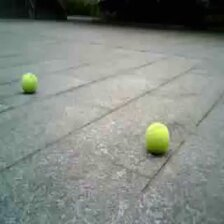tennis: (143, 123, 170, 154), (21, 73, 37, 90)
